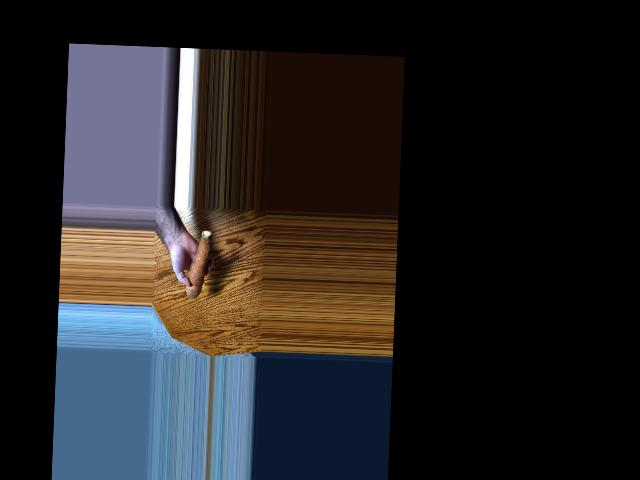sweet_potato: (189, 227, 210, 302)
